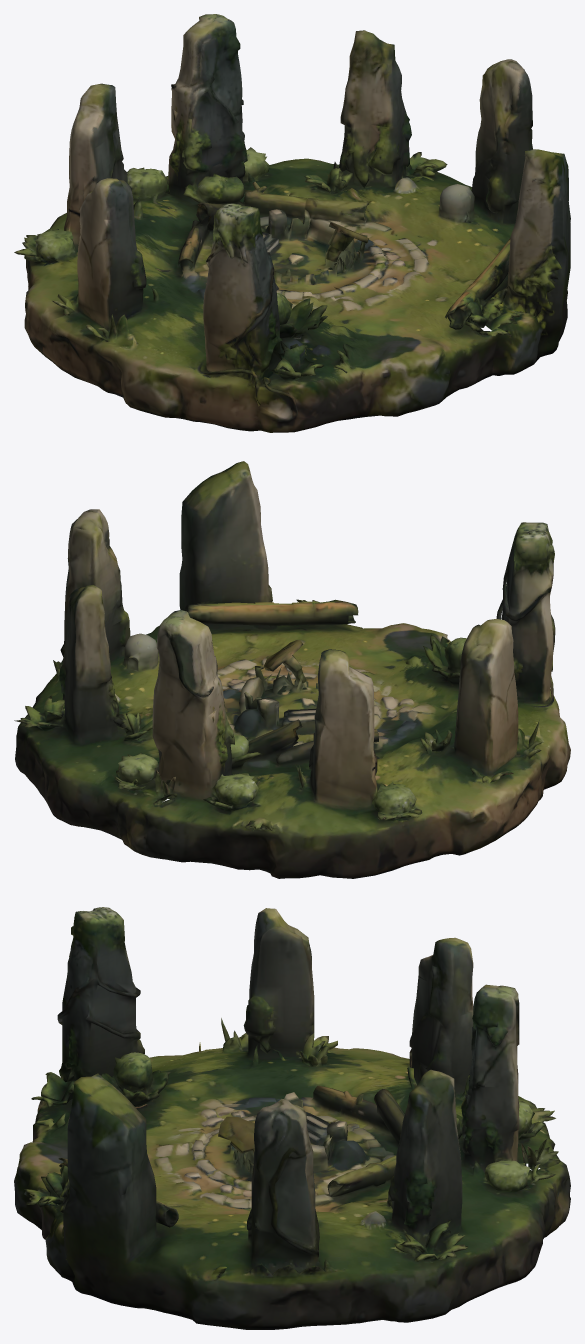
File: ancient stone circle asset.glb
The picture shows the model from 3 angles, top to bottom: view 1: azimuth 30°, elevation 25°; view 2: azimuth 150°, elevation 25°; view 3: azimuth 270°, elevation 25°; orthographic projection. The views are drawn at different scales.
Parts seen in each view (by area): view 1: tripo_node_32728349-5f76-4092-8f67-f640ed15389c; view 2: tripo_node_32728349-5f76-4092-8f67-f640ed15389c; view 3: tripo_node_32728349-5f76-4092-8f67-f640ed15389c.
Part boxes in pixels (x1,y1,x2,y2): tripo_node_32728349-5f76-4092-8f67-f640ed15389c: [14, 14, 570, 432]; tripo_node_32728349-5f76-4092-8f67-f640ed15389c: [14, 461, 570, 878]; tripo_node_32728349-5f76-4092-8f67-f640ed15389c: [14, 907, 570, 1329].
Bounding box in the file's own units: 0.9774 × 0.4418 × 0.9506.
Materials: 1 (1 with a texture image).
